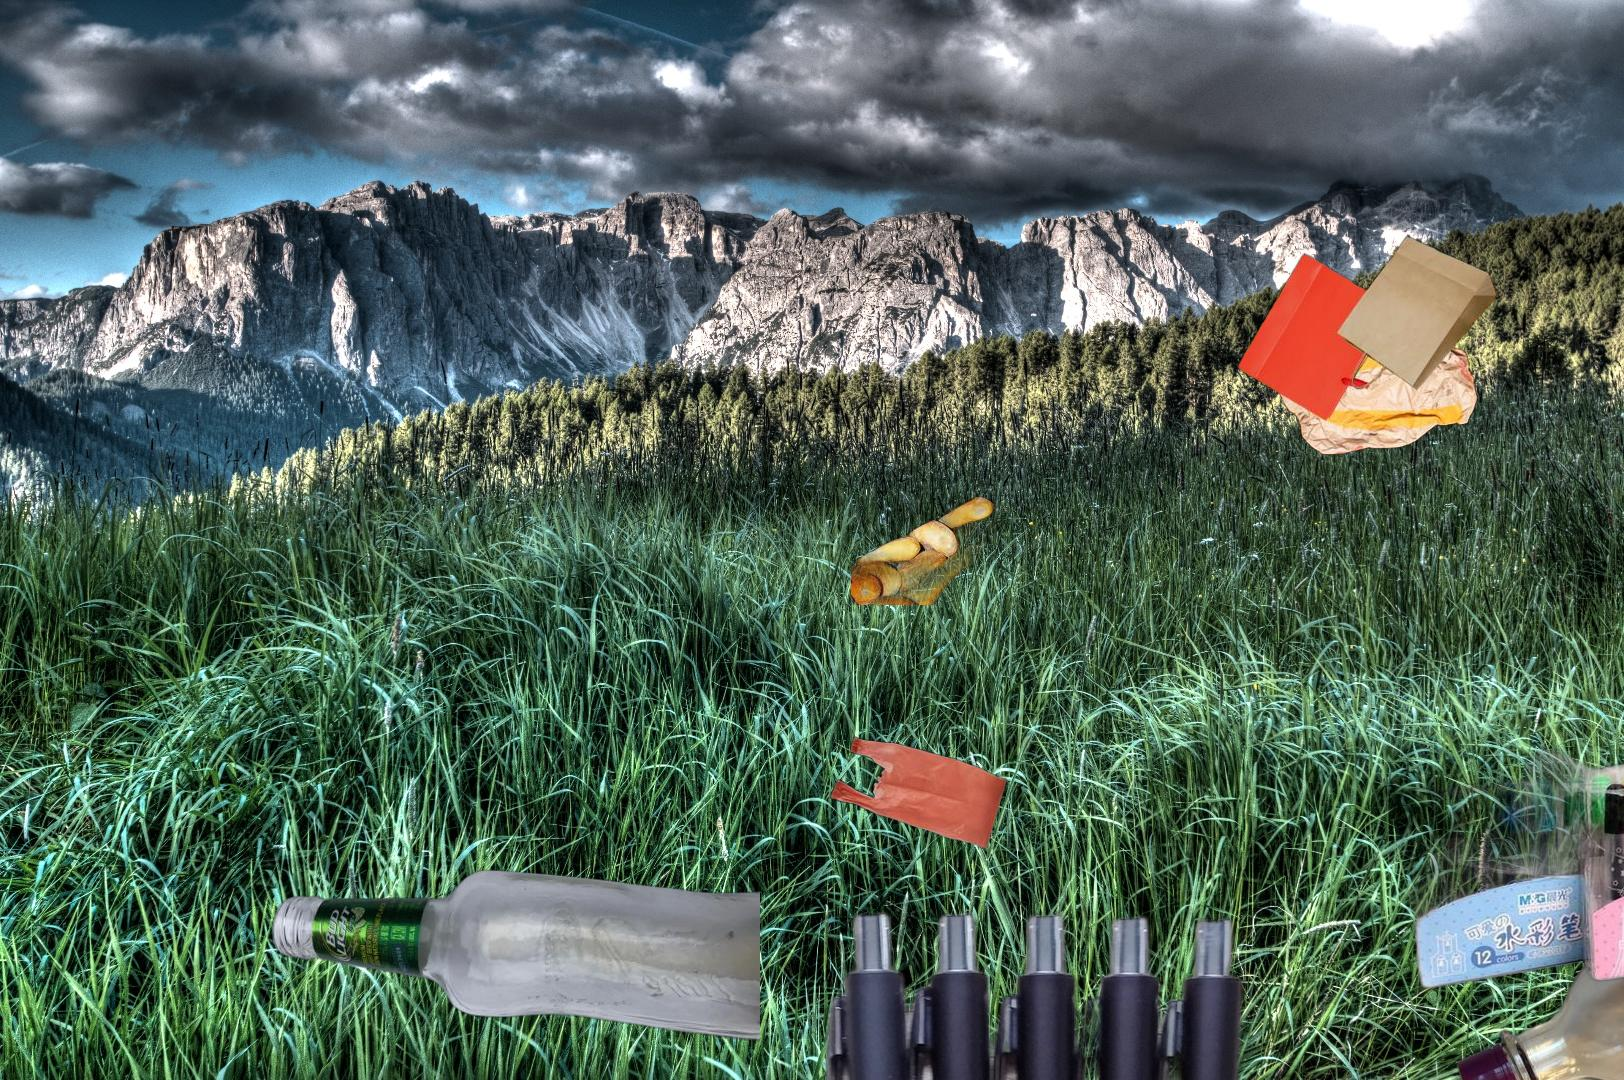biological: (851, 489, 1151, 605)
glass: (267, 867, 760, 1045), (1453, 875, 1624, 1080)
paper-bag: (1235, 235, 1500, 456)
penholder: (816, 903, 1251, 1080), (1375, 736, 1624, 993)
plastic-bag: (826, 734, 1010, 851)
